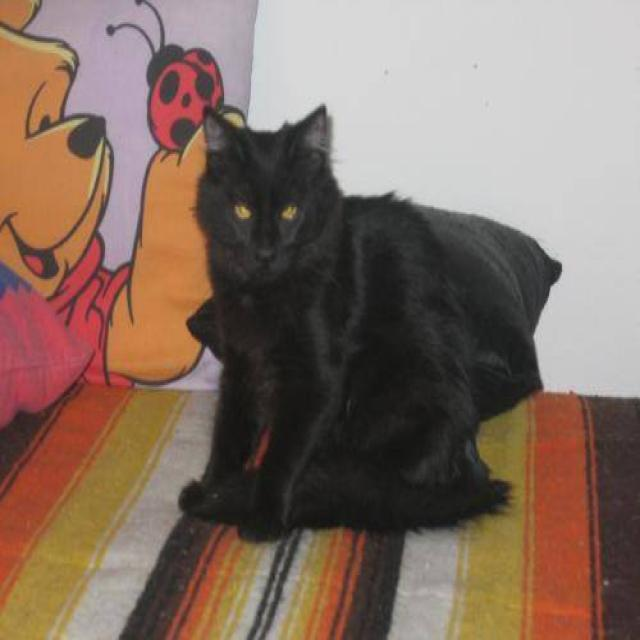cat: (177, 101, 562, 542)
